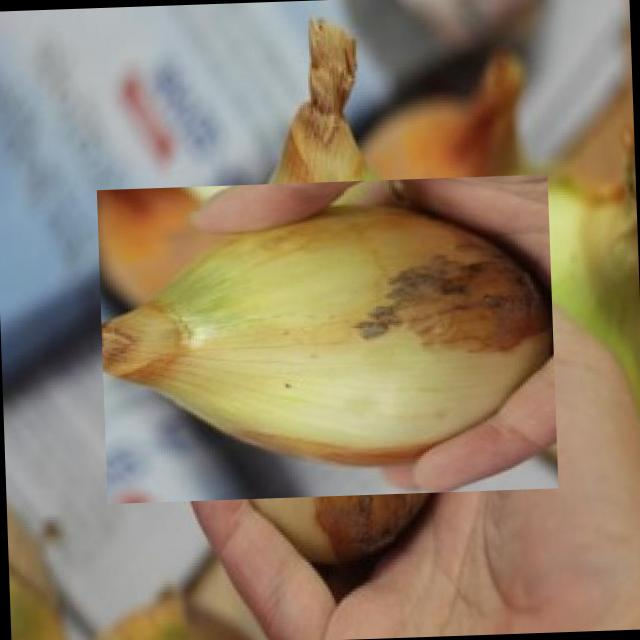Onion: (130, 140, 526, 536)
